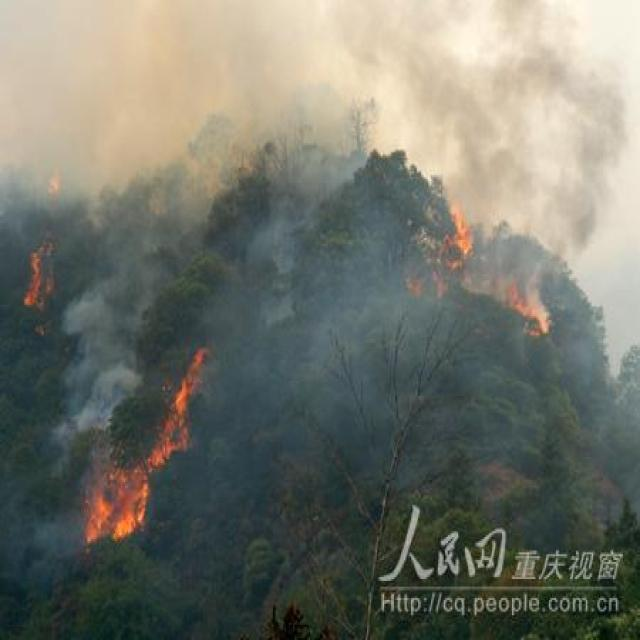fire: (84, 342, 206, 542), (408, 200, 554, 336), (13, 239, 59, 319)
